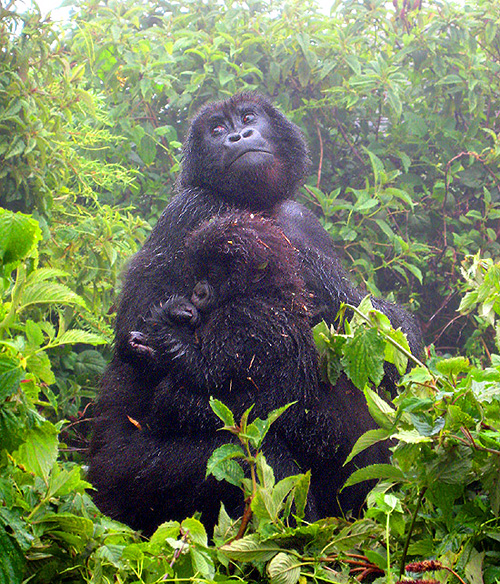Goriila: (117, 72, 441, 547)
